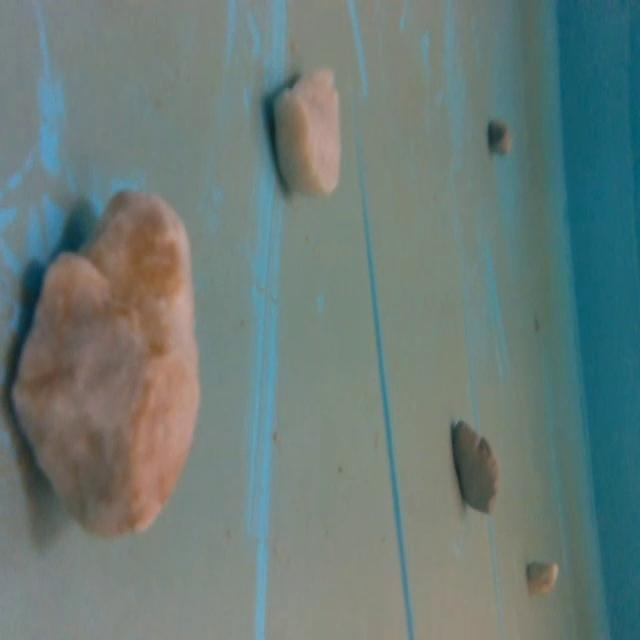rock: (7, 172, 209, 546), (268, 59, 346, 204), (448, 411, 504, 521), (485, 111, 518, 165), (524, 556, 560, 598)
